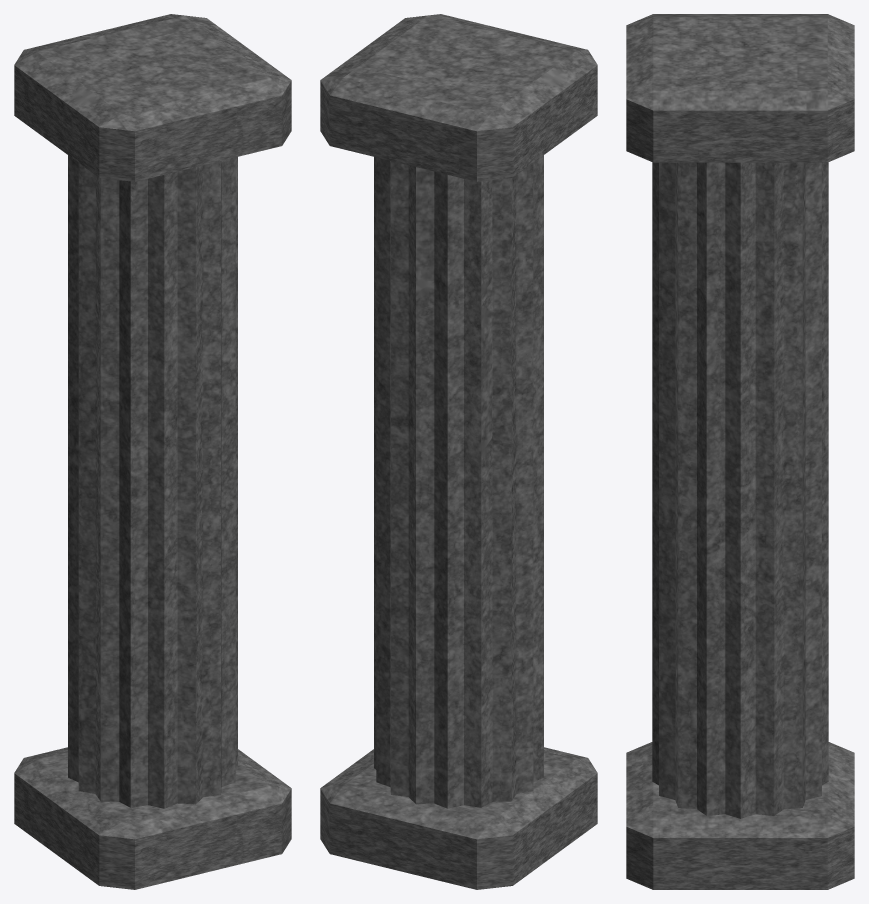
The model's file is Pillar_BlackRock_Square.fbx.
3 views of the same model, side by side, from view 1: azimuth 30°, elevation 25°; view 2: azimuth 150°, elevation 25°; view 3: azimuth 270°, elevation 25° (orthographic). The views are drawn at different scales.
Parts seen in each view (by area): view 1: Pillar_SquareTop_Black_Base, Cube.010, Cube.011; view 2: Pillar_SquareTop_Black_Base, Cube.010, Cube.011; view 3: Pillar_SquareTop_Black_Base, Cube.010, Cube.011.
Part boxes in pixels (x1,y1,x2,y2): Pillar_SquareTop_Black_Base: (68,155,237,808); Cube.010: (14,14,291,181); Cube.011: (14,747,291,889); Pillar_SquareTop_Black_Base: (374,155,543,808); Cube.010: (320,14,597,181); Cube.011: (320,747,597,889); Pillar_SquareTop_Black_Base: (652,162,828,818); Cube.010: (626,14,854,162); Cube.011: (626,742,854,889).
Bounding box in the file's own units: 139 × 534 × 139.
1 material, 1 textured.
